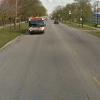Bus: (24, 13, 48, 35)
